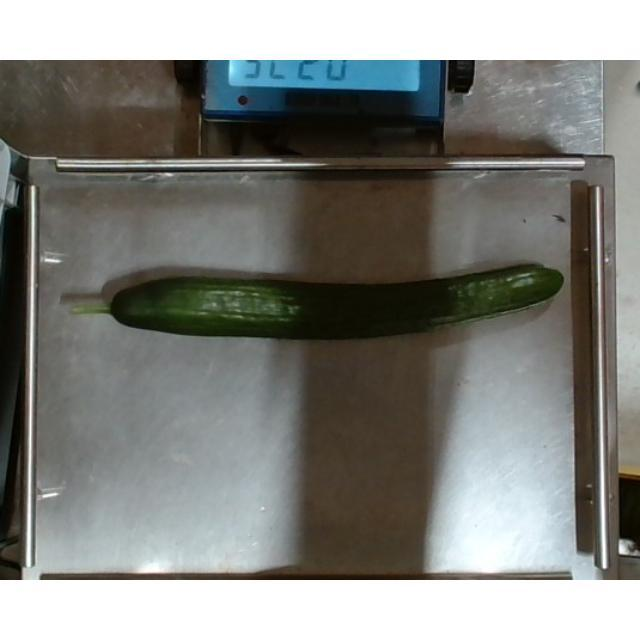cucumber: (88, 264, 568, 334)
